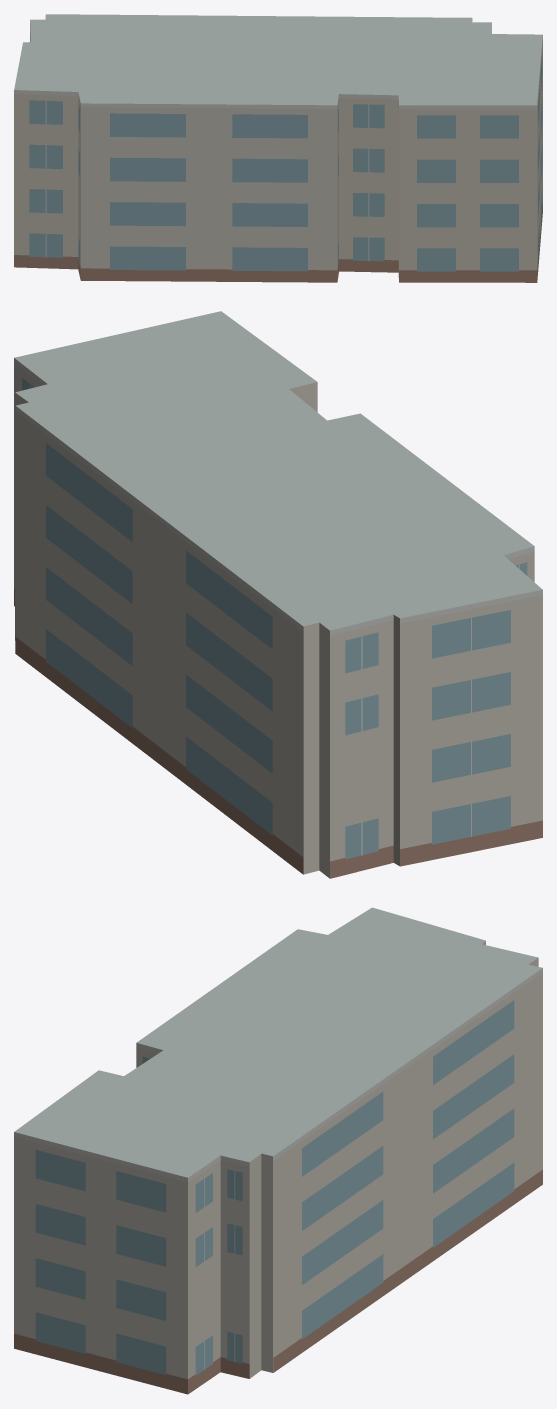
The model's file is survey-upis-32871604.glb.
3 renders of one model, top to bottom at view 1: azimuth 30°, elevation 25°; view 2: azimuth 150°, elevation 25°; view 3: azimuth 270°, elevation 25°, orthographic. The views are drawn at different scales.
Parts seen in each view (by area): view 1: survey-upis-32871604.tmp; view 2: survey-upis-32871604.tmp; view 3: survey-upis-32871604.tmp.
Boxes of the visible parts, x1,y1,x2,y2 form: survey-upis-32871604.tmp: (14,14,542,282); survey-upis-32871604.tmp: (14,311,542,878); survey-upis-32871604.tmp: (14,907,542,1394).
Size of the model in its own units: 30.24 by 11.3 by 25.
